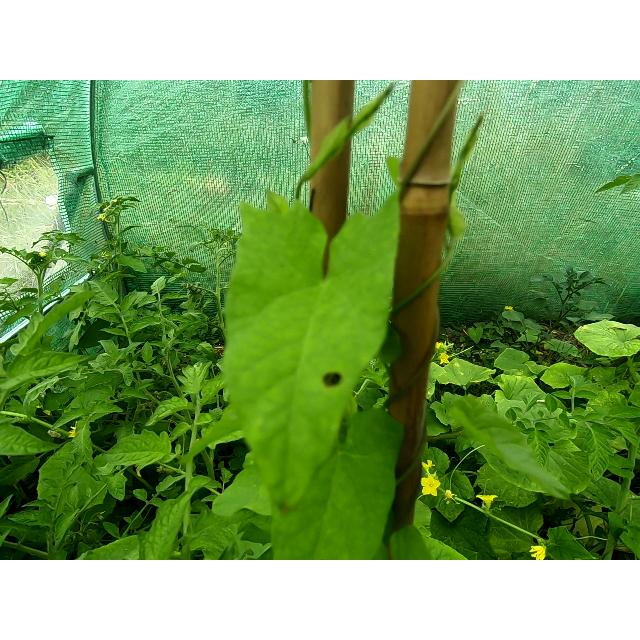Flowers: (421, 476, 442, 498), (434, 342, 452, 366), (528, 543, 548, 559), (474, 492, 496, 506)
